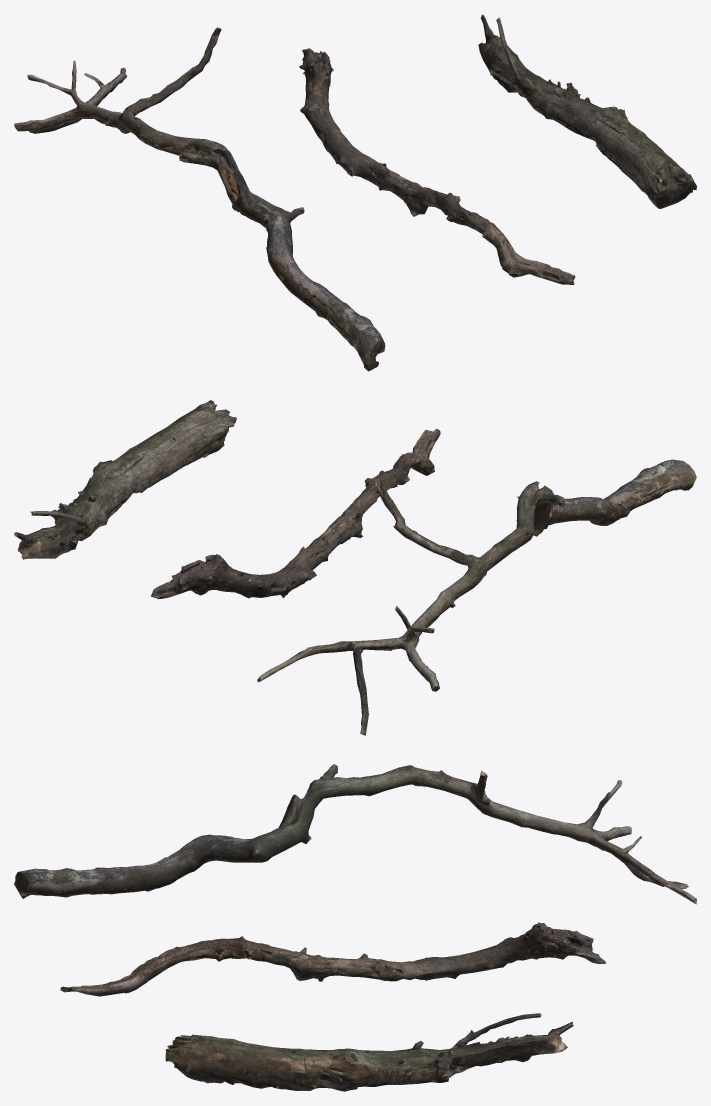
File: branches.glb
The picture shows the model from 3 angles, top to bottom: view 1: azimuth 30°, elevation 25°; view 2: azimuth 150°, elevation 25°; view 3: azimuth 270°, elevation 25°; orthographic projection. The views are drawn at different scales.
Parts seen in each view (by area): view 1: branches; view 2: branches; view 3: branches.
Boxes of the visible parts, <box> form: branches: <box>14,14,696,371</box>; branches: <box>14,400,696,735</box>; branches: <box>14,764,696,1091</box>.
Size of the model in its own units: 1.06 by 0.3407 by 1.3.
Materials: 1 (1 with a texture image).
